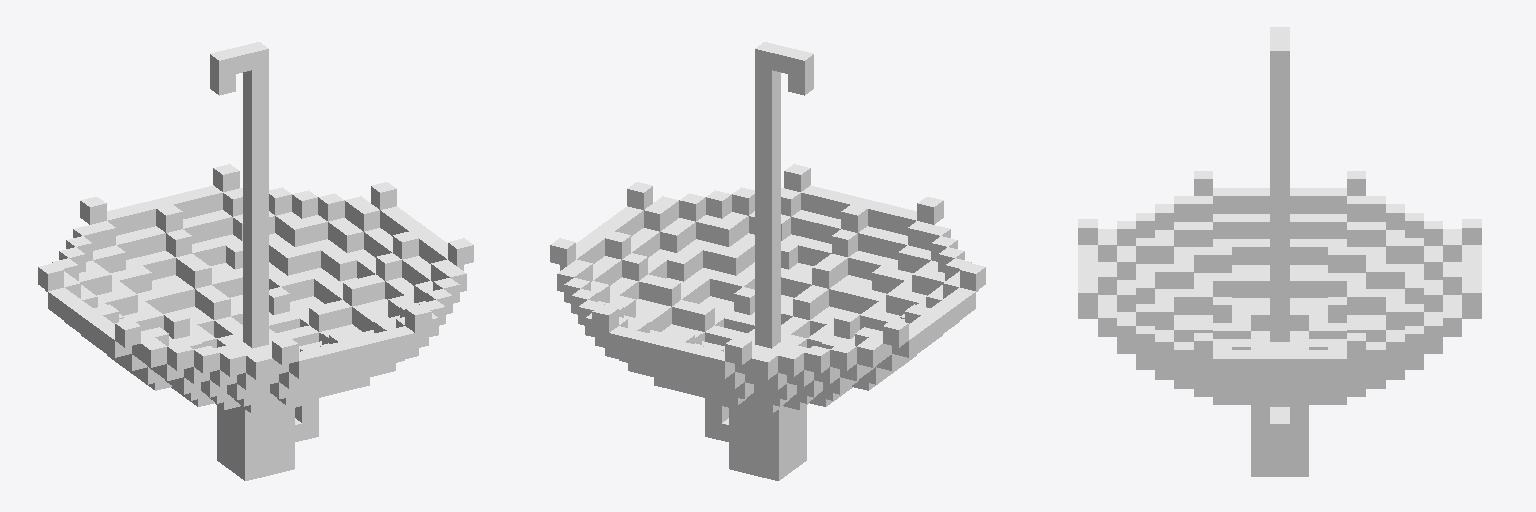
Rendered from obj.umbrellacup.obj.
3 renders of one model, left to right at view 1: azimuth 30°, elevation 25°; view 2: azimuth 150°, elevation 25°; view 3: azimuth 270°, elevation 25°, orthographic.
Parts seen in each view (by area): view 1: object 1; view 2: object 1; view 3: object 1.
Part boxes in pixels (left/top/right/bottom): object 1: left=38, top=42, right=473, bottom=480; object 1: left=550, top=42, right=985, bottom=480; object 1: left=1078, top=27, right=1481, bottom=476.
Size of the model in its own units: 2.1 by 2.4 by 2.1.